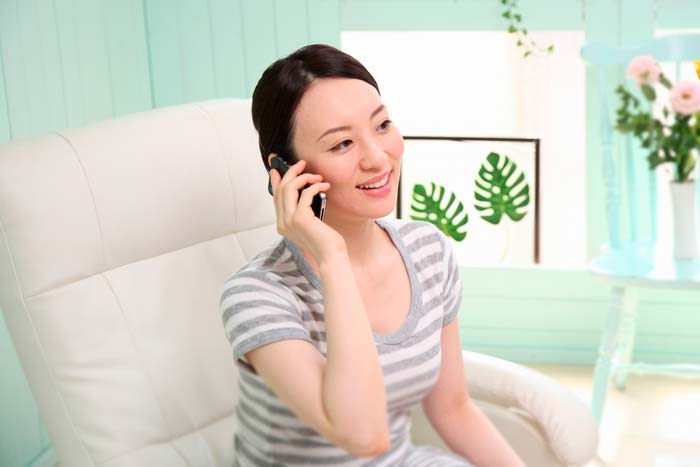phone: (265, 154, 334, 247)
talk: (267, 101, 407, 268)
